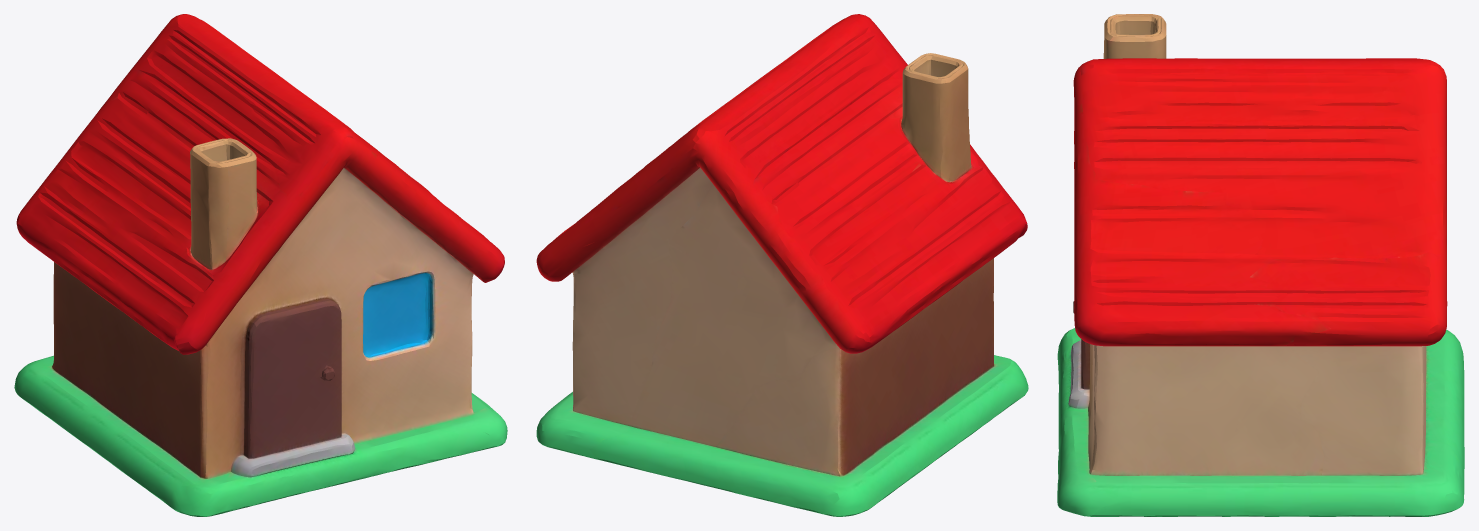
Rendered from house.glb.
3 views of the same model, side by side, from view 1: azimuth 30°, elevation 25°; view 2: azimuth 150°, elevation 25°; view 3: azimuth 270°, elevation 25° (orthographic). The views are drawn at different scales.
Visible parts, largest first — view 1: model; view 2: model; view 3: model.
Part boxes in pixels (bbox=[...]): model: bbox=[14, 14, 507, 516]; model: bbox=[536, 14, 1028, 516]; model: bbox=[1057, 14, 1464, 516].
Size of the model in its own units: 1 by 0.9785 by 0.9785.
1 material, 1 textured.
